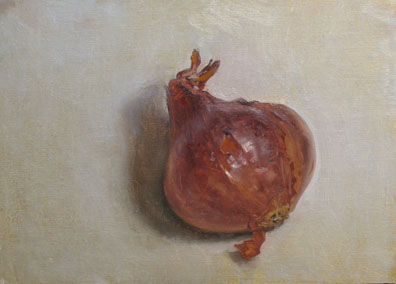onion: (159, 49, 320, 269)
